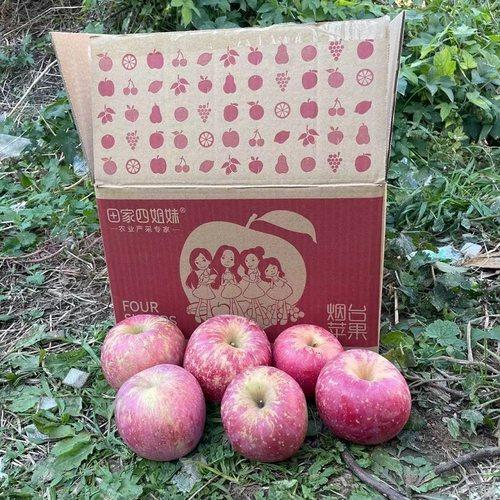apple: (315, 347, 410, 447), (113, 365, 204, 462), (220, 365, 306, 462), (183, 315, 272, 396), (100, 312, 184, 390), (272, 325, 343, 391)
